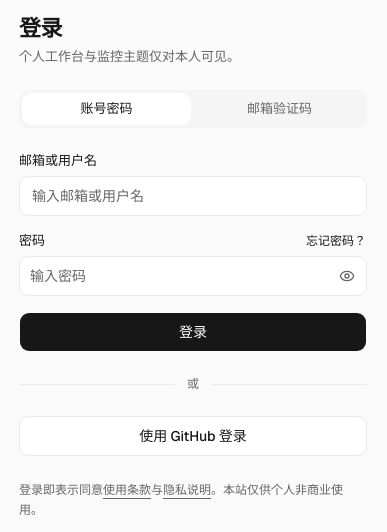
Test case: LoginForm › switches forms without submitting, preserves entered values, and clears the previous error
Type "reader" into the field labelled "邮箱或用户名".
click(193, 196); type("reader")  # box [19,176,367,216]
Type "test-password-only" into the password field labelled "密码".
click(175, 276); type("test-password-only")  # box [20,260,331,292]
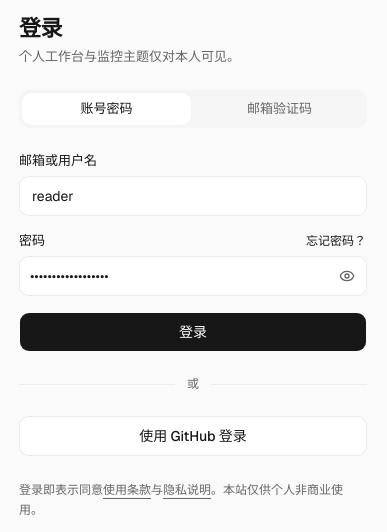
Submit the form named "账号密码登录", box [19,152,367,352]
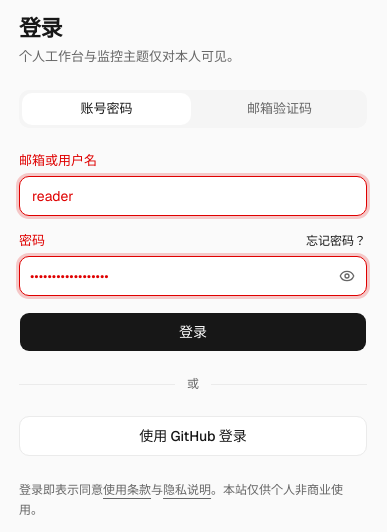
Click the button with aria-label "使用邮箱验证码登录".
click(280, 109)  # box [195,93,364,125]
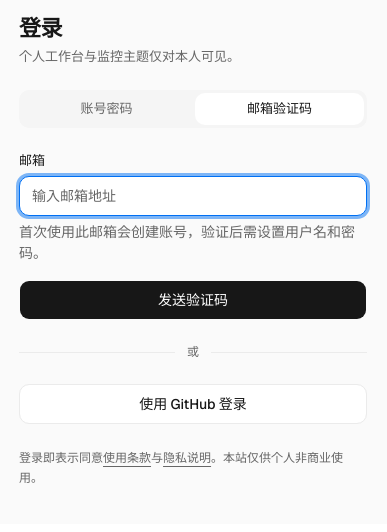
Check: the field labelled "邮箱" is shown
Check: the form "账号密码登录" is gone
Type "reader@example.com" into the field labelled "邮箱".
click(193, 196); type("reader@example.com")  # box [19,176,367,216]
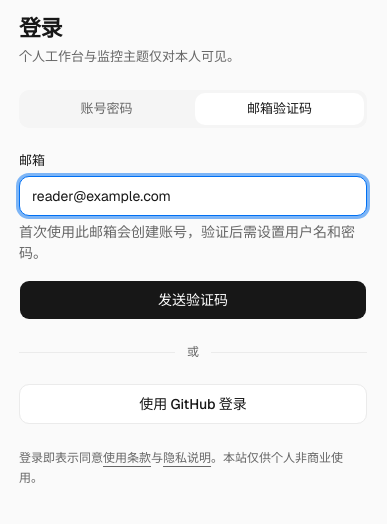
Click the button with aria-label "使用账号密码登录".
click(106, 109)  # box [22,93,191,125]
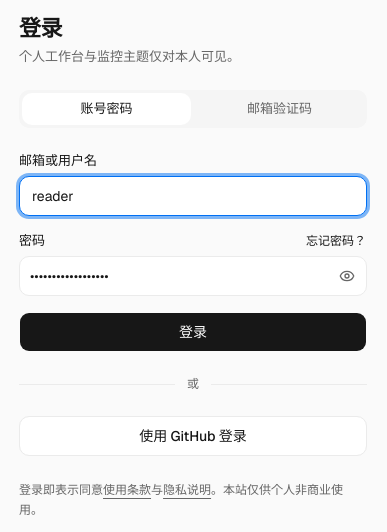
Check: the field labelled "邮箱或用户名" holds "reader", box [19,176,367,216]
Check: the password field labelled "密码" holds "test-password-only", box [20,260,331,292]
Click the button with aria-label "使用邮箱验证码登录".
click(280, 109)  # box [195,93,364,125]
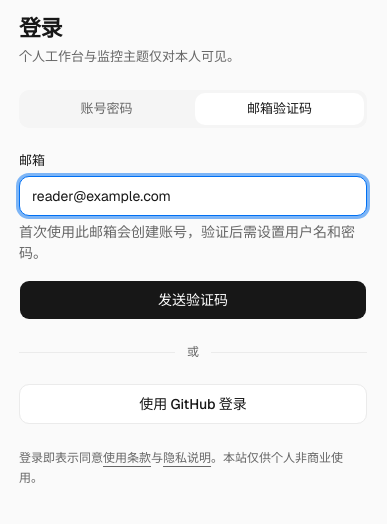
Check: the field labelled "邮箱" holds "reader@example.com", box [19,176,367,216]
